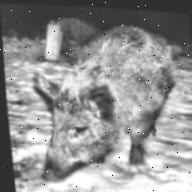boar: (14, 10, 192, 192)
